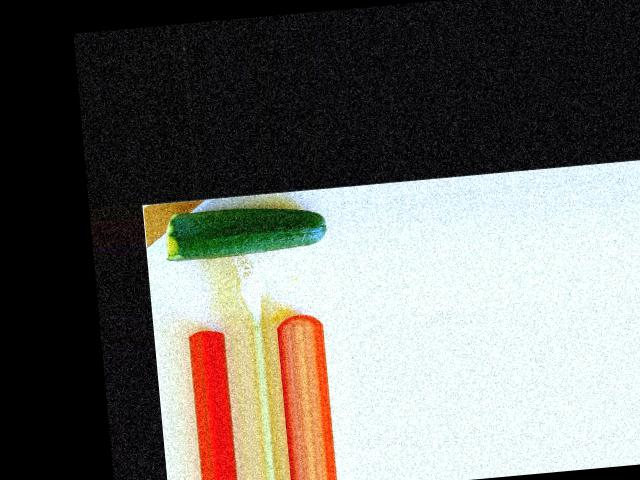cucumber: (162, 199, 329, 261)
